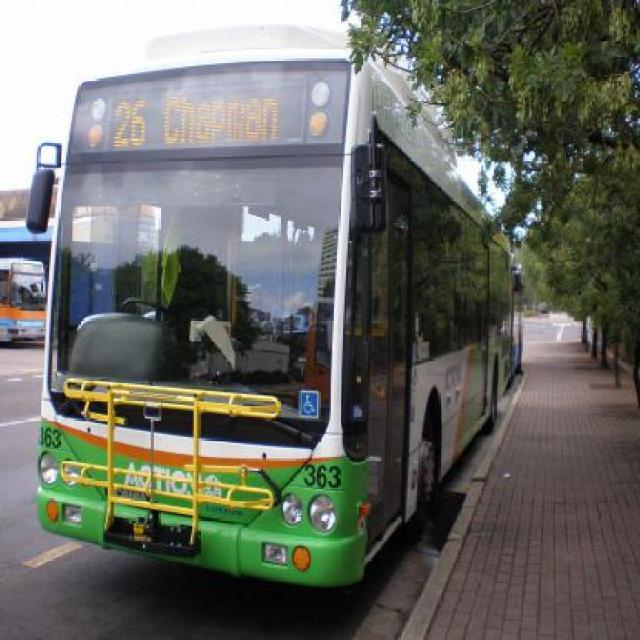bus: (26, 24, 522, 584)
